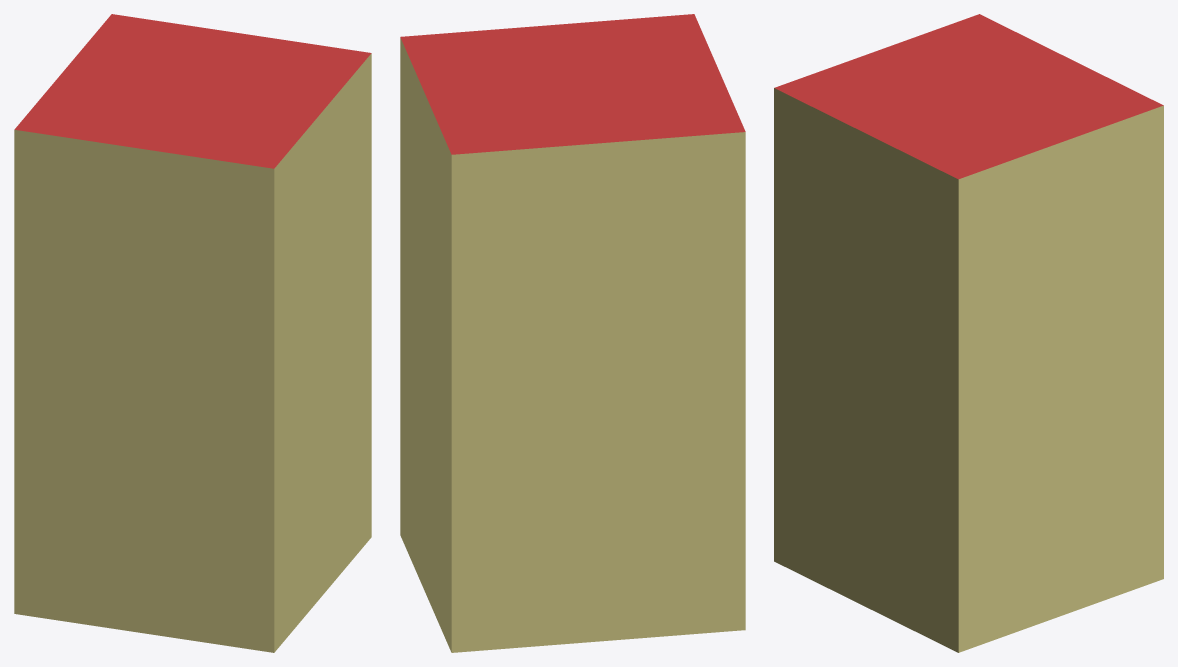
3 views of the same model, side by side, from view 1: azimuth 30°, elevation 25°; view 2: azimuth 150°, elevation 25°; view 3: azimuth 270°, elevation 25° (orthographic). The views are drawn at different scales.
Size of the model in its own units: 5.8 by 5.77 by 7.74.
